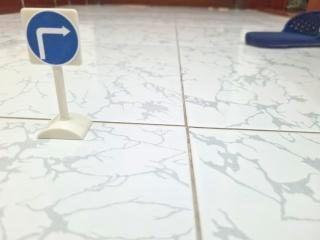right: (15, 3, 95, 76)
